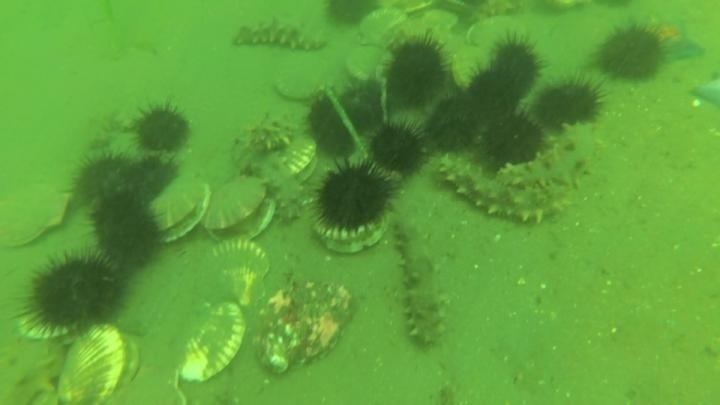echinus: (17, 247, 129, 339), (310, 158, 398, 241), (87, 191, 164, 270), (381, 34, 451, 109), (594, 21, 668, 85), (67, 149, 145, 208), (421, 90, 490, 154), (303, 90, 366, 159), (532, 75, 606, 133), (477, 110, 547, 171), (327, 76, 393, 140), (366, 118, 429, 178), (130, 100, 194, 156), (488, 34, 546, 95), (464, 64, 523, 118), (122, 152, 182, 204), (321, 1, 383, 30)
holothurian: (431, 151, 570, 229), (496, 120, 604, 196), (391, 216, 451, 350), (240, 143, 308, 224), (1, 331, 71, 405), (230, 14, 330, 55), (236, 107, 305, 157), (83, 107, 127, 154), (452, 1, 519, 30)
scallop: (53, 323, 136, 404), (172, 299, 247, 388), (193, 235, 270, 305), (1, 178, 73, 252), (200, 175, 277, 243), (146, 176, 214, 246), (249, 135, 317, 205), (269, 49, 346, 106), (309, 207, 390, 257), (383, 3, 460, 49), (464, 14, 533, 65), (439, 38, 498, 94), (268, 133, 319, 184), (11, 306, 74, 345), (356, 6, 410, 50), (343, 43, 395, 87), (416, 7, 461, 36)
starfish: (636, 14, 707, 65), (687, 72, 720, 111)
